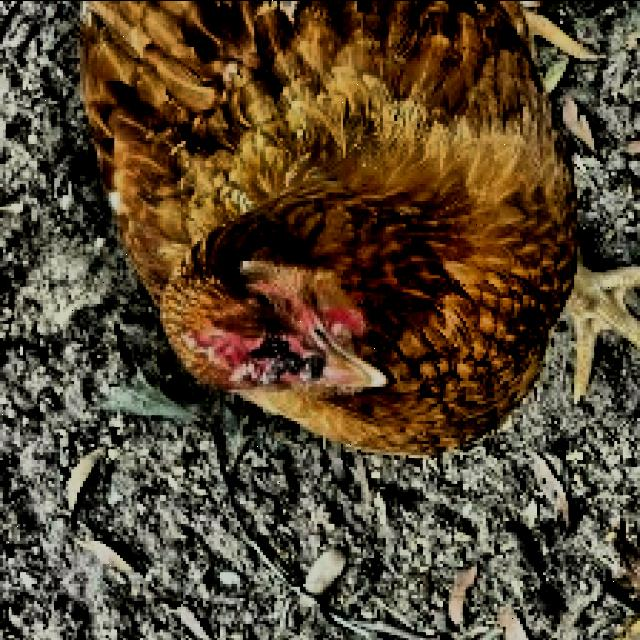Fowlpox: (195, 306, 348, 422)
